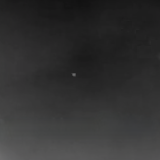Target: (72, 73, 76, 77)
